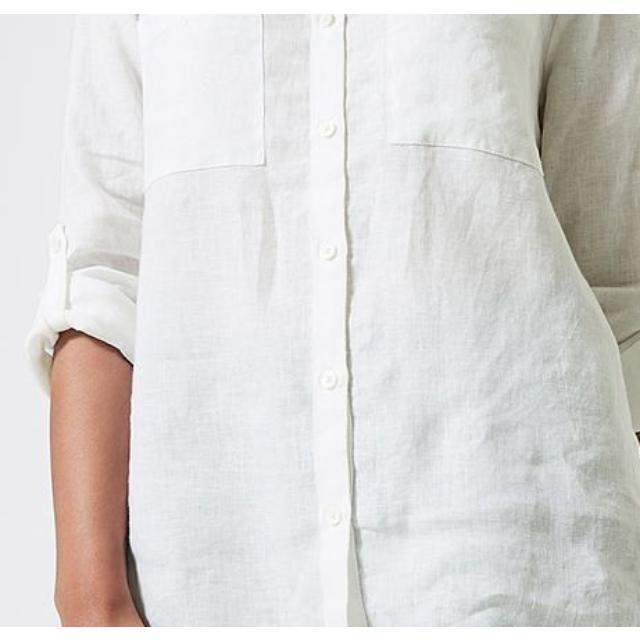linen: (112, 14, 640, 626)
